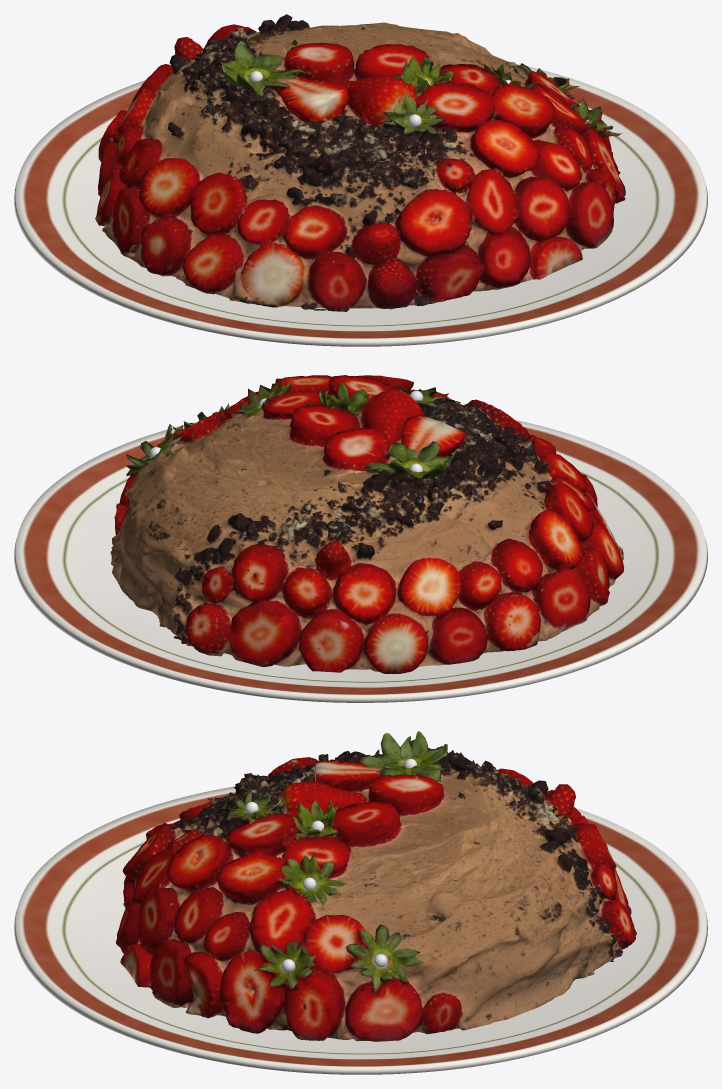
The model's file is torta-cioccolato-e-fragole.glb.
The picture shows the model from 3 angles, top to bottom: view 1: azimuth 30°, elevation 25°; view 2: azimuth 150°, elevation 25°; view 3: azimuth 270°, elevation 25°; orthographic projection.
Visible parts, largest first — view 1: strawberry_chocolate_cake, Prato; view 2: strawberry_chocolate_cake, Prato; view 3: strawberry_chocolate_cake, Prato.
Boxes of the visible parts, x1=… form: strawberry_chocolate_cake: x1=95, y1=14, x2=625, y2=311; Prato: x1=14, y1=64, x2=707, y2=346; strawberry_chocolate_cake: x1=110, y1=375, x2=624, y2=673; Prato: x1=14, y1=420, x2=707, y2=702; strawberry_chocolate_cake: x1=116, y1=731, x2=636, y2=1041; Prato: x1=14, y1=786, x2=707, y2=1074.
Size of the model in its own units: 0.32 by 0.0897 by 0.32.
2 materials, 2 textured.
